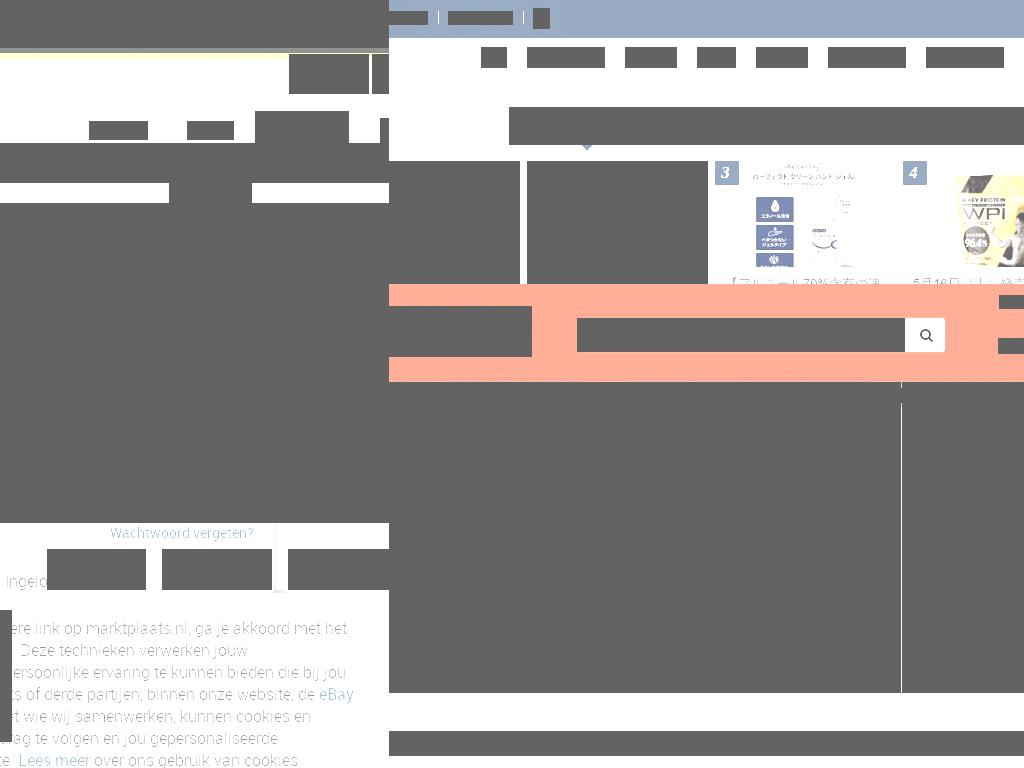button: (389, 382, 901, 693), (902, 382, 1024, 693), (28, 610, 210, 768), (226, 610, 389, 768), (527, 161, 708, 284), (715, 161, 896, 284), (389, 161, 520, 284), (903, 161, 1024, 284), (0, 285, 254, 326), (0, 604, 254, 645), (169, 151, 252, 264), (0, 525, 254, 540), (289, 54, 369, 94), (169, 264, 252, 284)
field: (577, 318, 905, 352), (0, 413, 254, 449), (0, 484, 254, 520)
heading: (389, 731, 1024, 756), (0, 143, 389, 183), (389, 306, 532, 357), (934, 580, 1024, 629), (480, 582, 664, 603), (40, 750, 198, 768), (238, 750, 389, 768), (389, 582, 481, 603)
iframe: (0, 284, 389, 523), (0, 0, 389, 48)
image: (0, 284, 389, 768), (0, 203, 389, 284), (28, 610, 210, 742), (527, 161, 708, 282), (715, 161, 896, 282), (226, 610, 389, 742), (389, 161, 520, 282), (903, 161, 1024, 282), (509, 107, 665, 145), (16, 288, 48, 321), (526, 675, 535, 684), (553, 675, 562, 684), (581, 675, 590, 684), (608, 675, 617, 684), (635, 675, 644, 684), (662, 675, 671, 684), (690, 675, 699, 684), (717, 675, 726, 684)
label: (0, 563, 254, 599), (0, 389, 254, 410), (0, 460, 254, 481)
link: (389, 609, 875, 646), (0, 683, 354, 727), (934, 633, 1024, 670), (657, 388, 845, 403), (480, 388, 649, 403), (129, 657, 221, 677), (527, 47, 605, 68), (828, 47, 906, 68), (926, 47, 1004, 68), (18, 749, 90, 768), (855, 388, 940, 403), (949, 388, 1024, 403), (625, 47, 677, 68), (756, 47, 808, 68), (448, 11, 513, 25), (697, 47, 736, 68), (389, 11, 428, 25), (481, 47, 507, 68), (998, 338, 1024, 354), (533, 8, 550, 29)
text: (389, 382, 901, 693), (902, 382, 1024, 693), (0, 617, 347, 705), (0, 705, 311, 768), (509, 107, 665, 145), (665, 107, 821, 145), (821, 107, 977, 145), (162, 549, 272, 590), (288, 549, 389, 590), (47, 549, 146, 590), (255, 111, 349, 154), (90, 749, 302, 768), (5, 349, 223, 366), (51, 294, 202, 316), (7, 657, 130, 677), (977, 107, 1024, 145), (389, 386, 476, 405), (83, 612, 145, 637), (89, 121, 148, 140), (187, 121, 234, 140), (527, 161, 551, 185), (715, 161, 739, 185), (903, 161, 927, 185)
